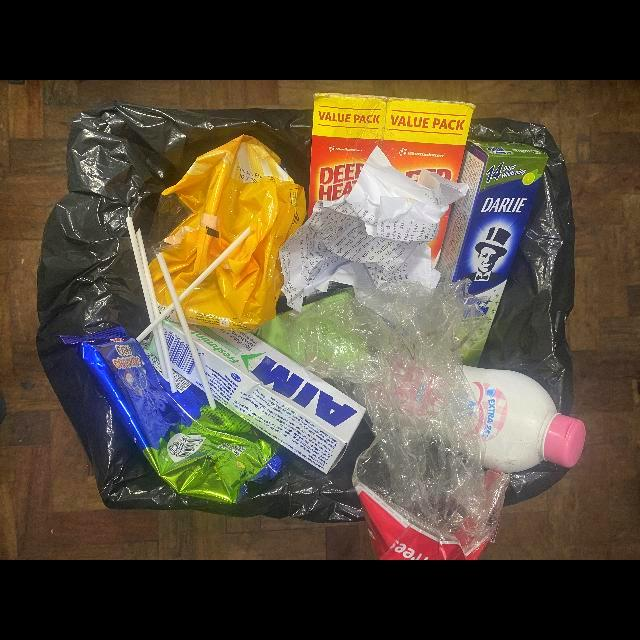cardboard: (148, 320, 367, 474), (309, 94, 475, 264), (436, 141, 548, 367)
food_wrapper: (54, 326, 294, 504), (149, 134, 307, 333)
paper: (279, 145, 469, 321)
plastic_bag: (286, 278, 510, 560)
plastic_container: (350, 351, 585, 473)
